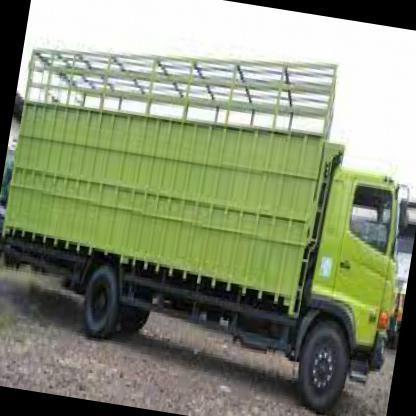truck: (291, 155, 416, 416)
